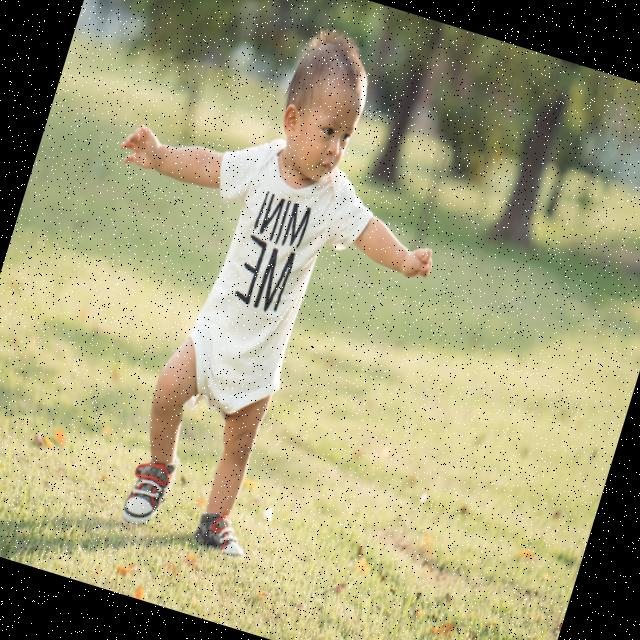Person: (13, 0, 487, 589)
